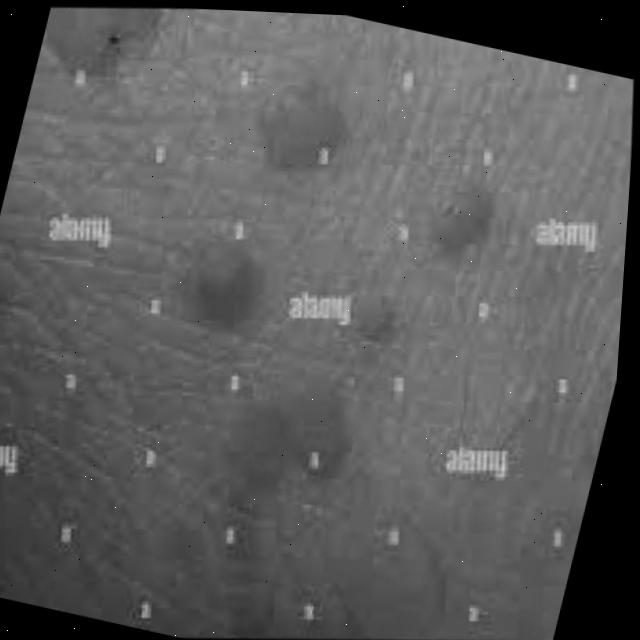Eczema: (119, 46, 526, 579)
